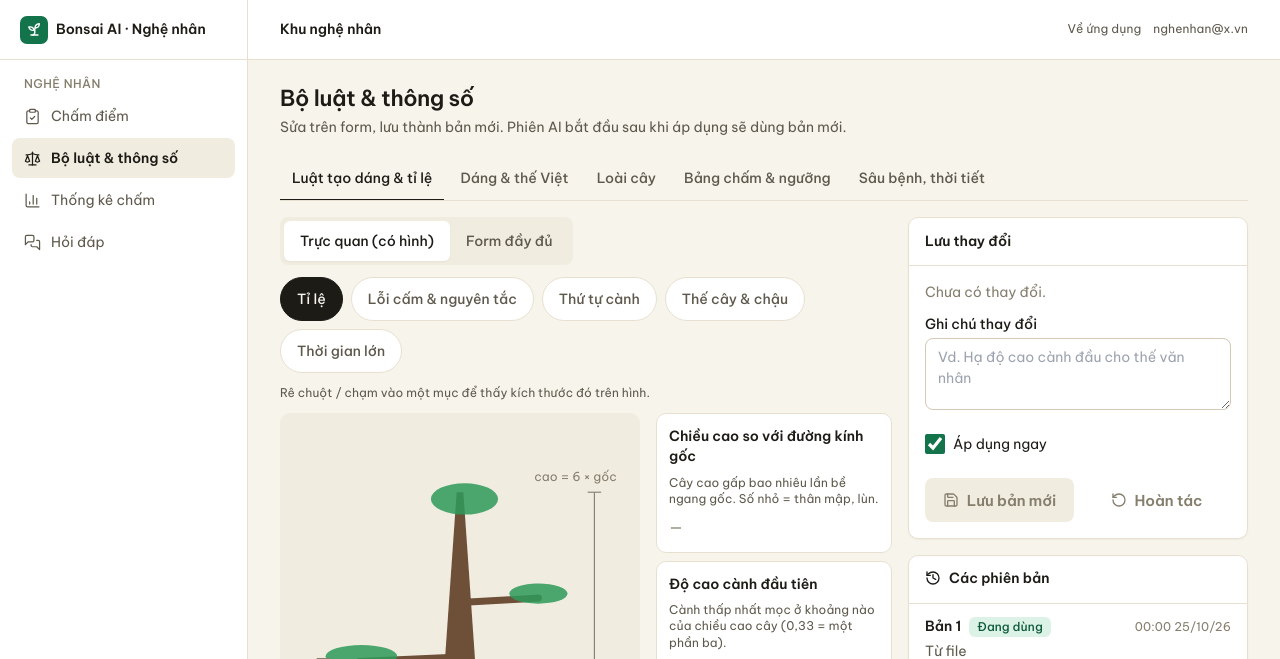
it: Khu nghệ nhân › edits a rule with Vietnamese labels and saves a new version with a note
Click the button "Form đầy đủ": (509, 241) [450,221,569,261]
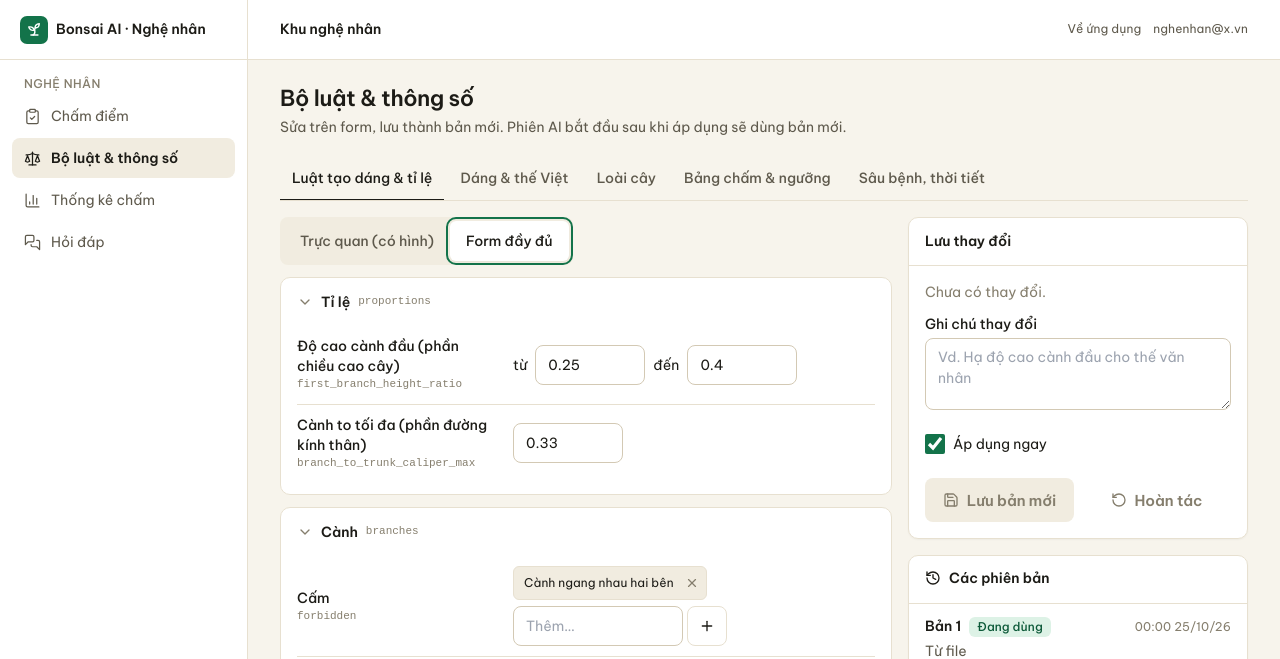
Expected: the text "Độ cao cành đầu (phần chiều cao cây)" is shown, [297,337,459,375]
Expected: the element titled "bar_branches" reads "Cành ngang nhau hai bên", [524,575,674,590]
Replace the text in the field named "Độ cao cành đầu (phần chiều cao cây) đến" with "0.36": (742, 365) [687,345,797,385]
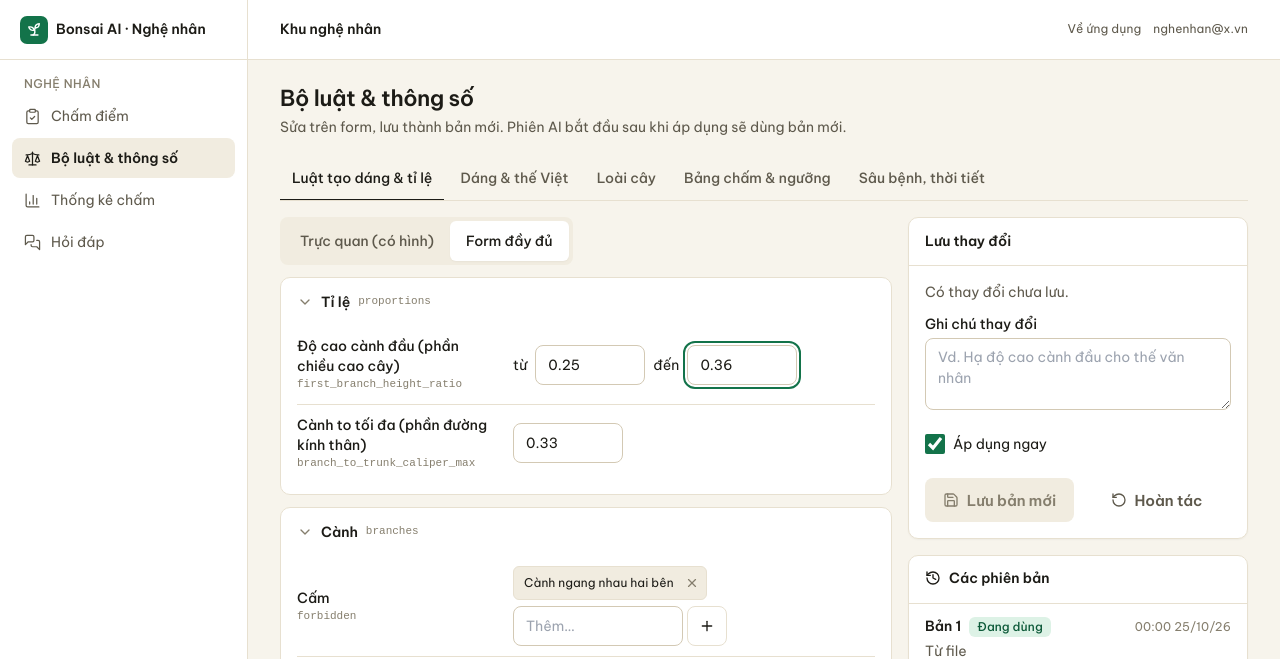
Expected: the button "Lưu bản mới" is disabled, [925,478,1074,522]
In the text box labelled "Ghi chú thay đổi": (1078, 374) [925,338,1231,410], type "Hạ cành đầu"
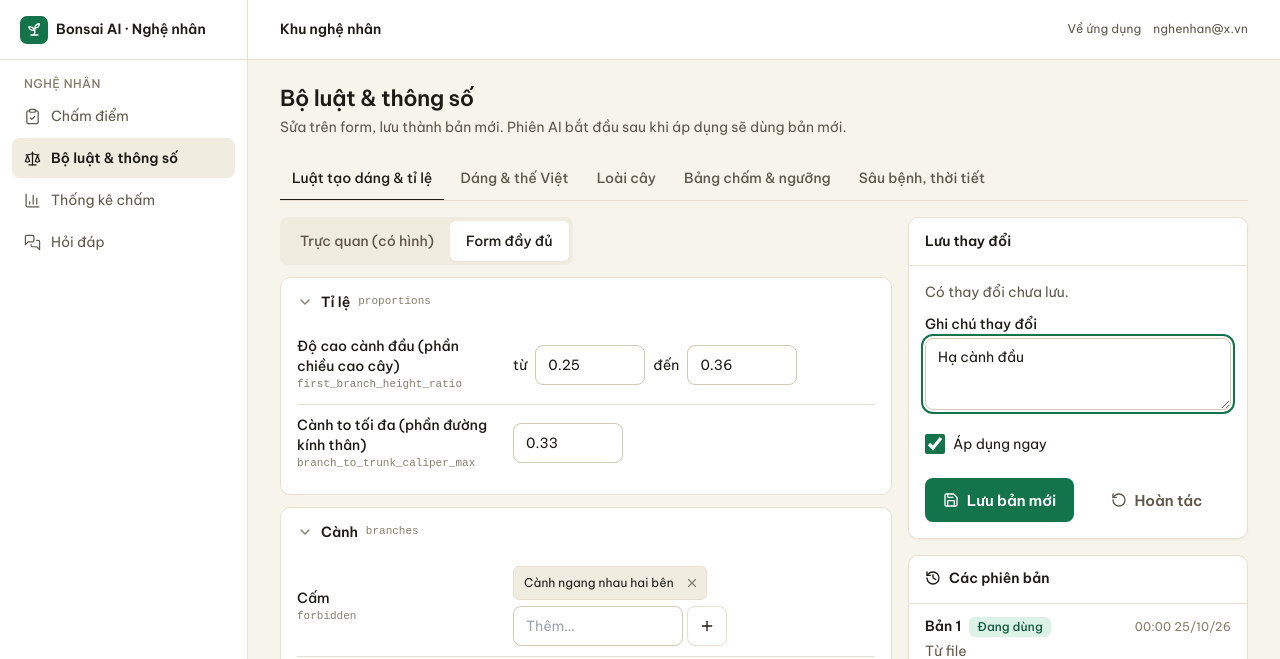
Expected: the button "Lưu bản mới" is enabled
Click the button "Lưu bản mới": (1000, 500) [925,478,1074,522]
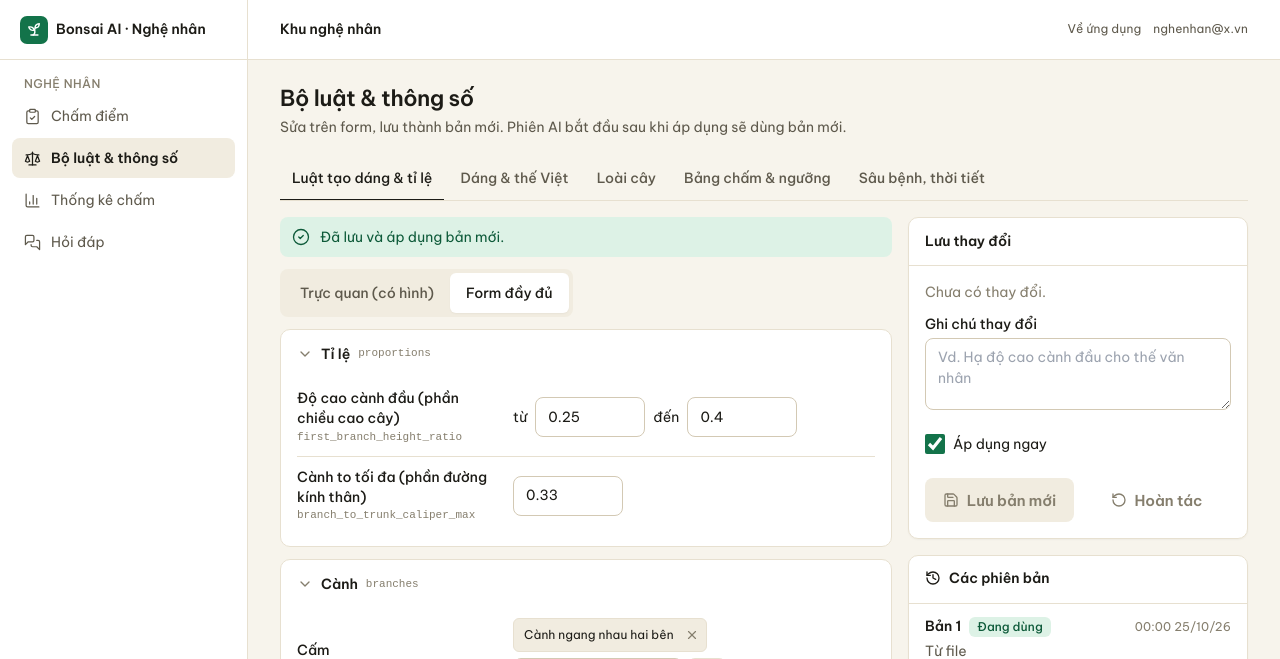
Expected: the text "Đã lưu và áp dụng bản mới." is shown, [320,228,504,246]
